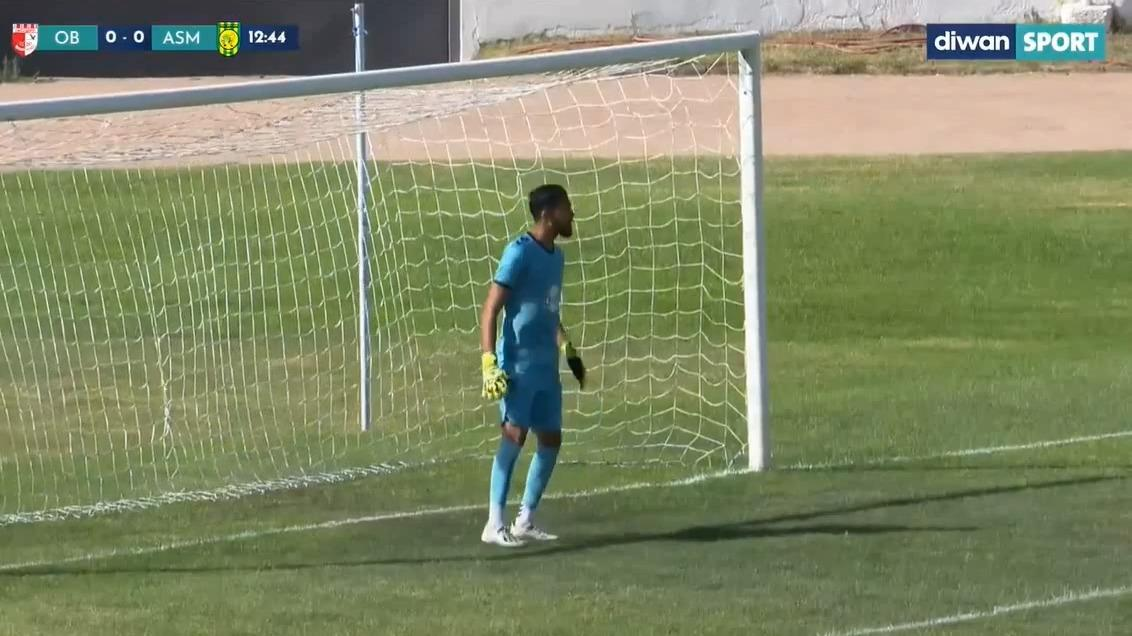goalkeeper: (452, 151, 601, 568)
